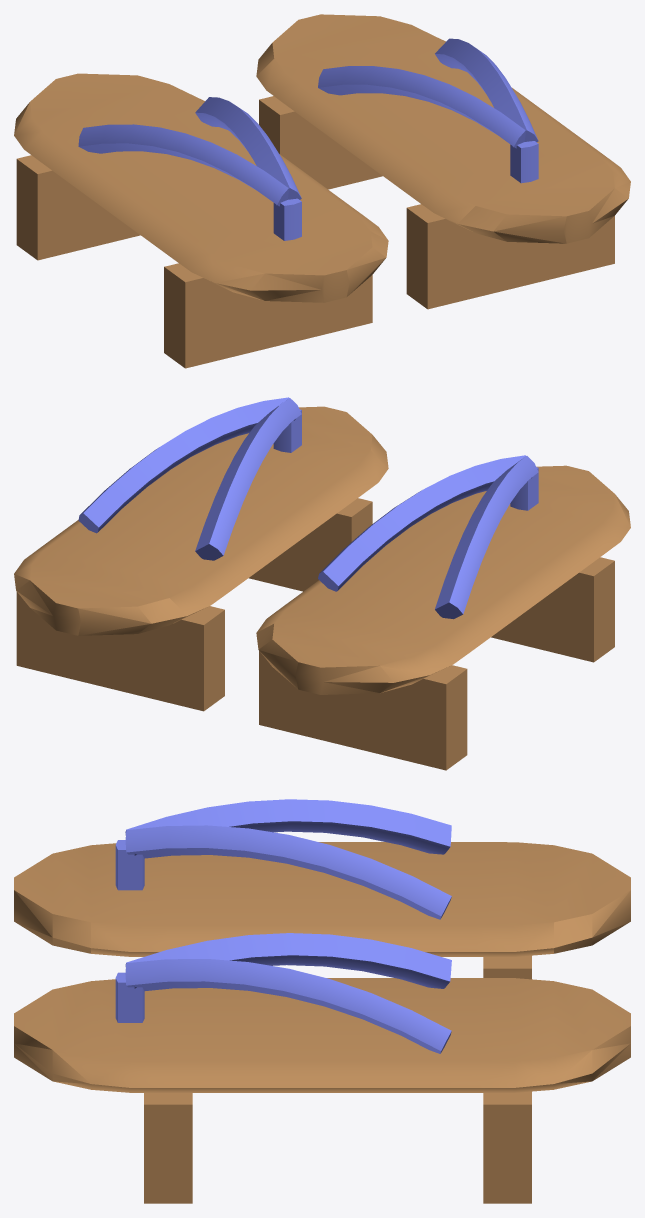
Rendered from geta.far.glb.
3 views of the same model, one above another, from view 1: azimuth 30°, elevation 25°; view 2: azimuth 150°, elevation 25°; view 3: azimuth 270°, elevation 25° (orthographic). The views are drawn at different scales.
Visible parts, largest first — view 1: geta; view 2: geta; view 3: geta.
Boxes of the visible parts, <box> form: geta: <box>14,14,630,368</box>; geta: <box>14,397,630,770</box>; geta: <box>14,799,630,1203</box>.
Size of the model in its own units: 0.2345 by 0.0914 by 0.2537.
